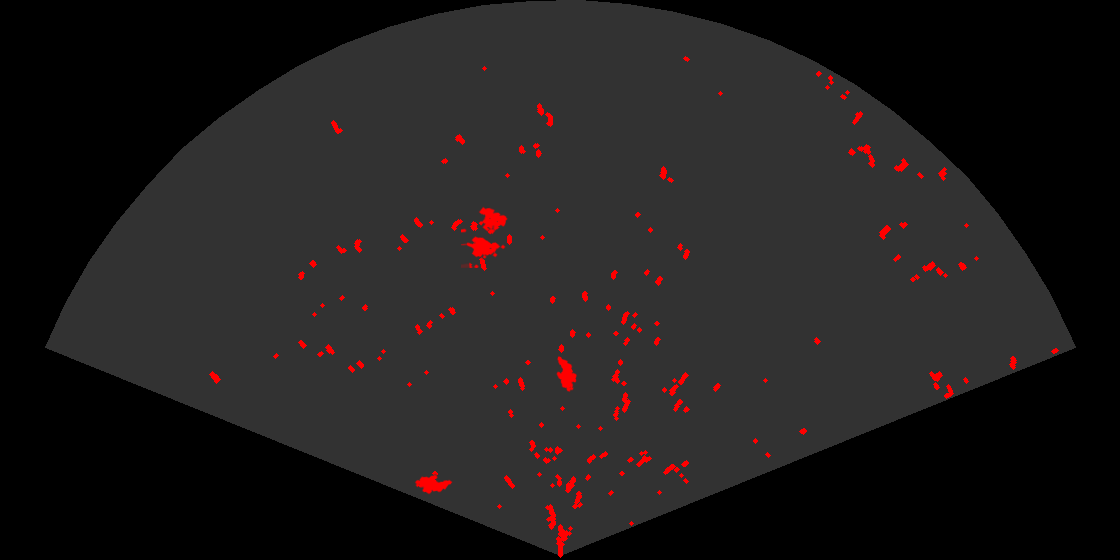AUV: (555, 354, 579, 394), (413, 473, 454, 496)
cage: (461, 205, 509, 268)
